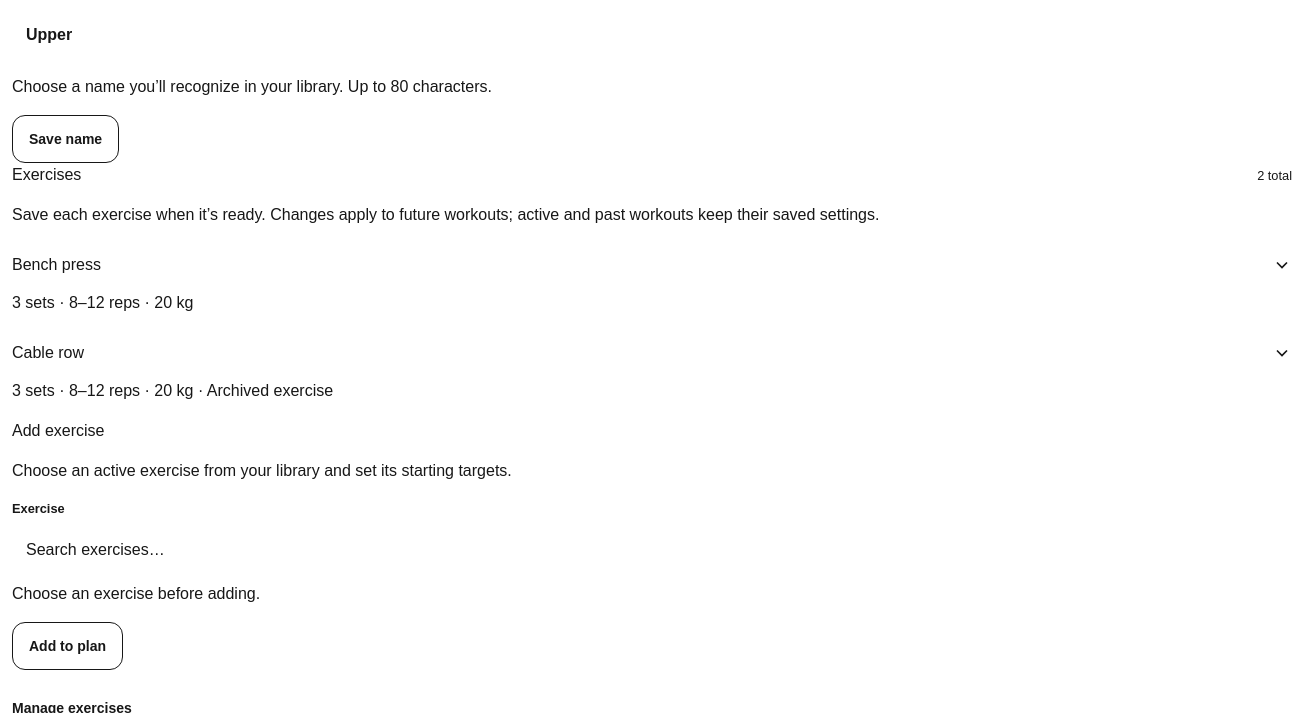
Test: keeps drafts attached to exercise IDs after reorder
This screenshot has width=1304, height=713.
Click the button "Bench press": coordinates (56, 265) [12, 243, 1292, 287]
(page scrolled)
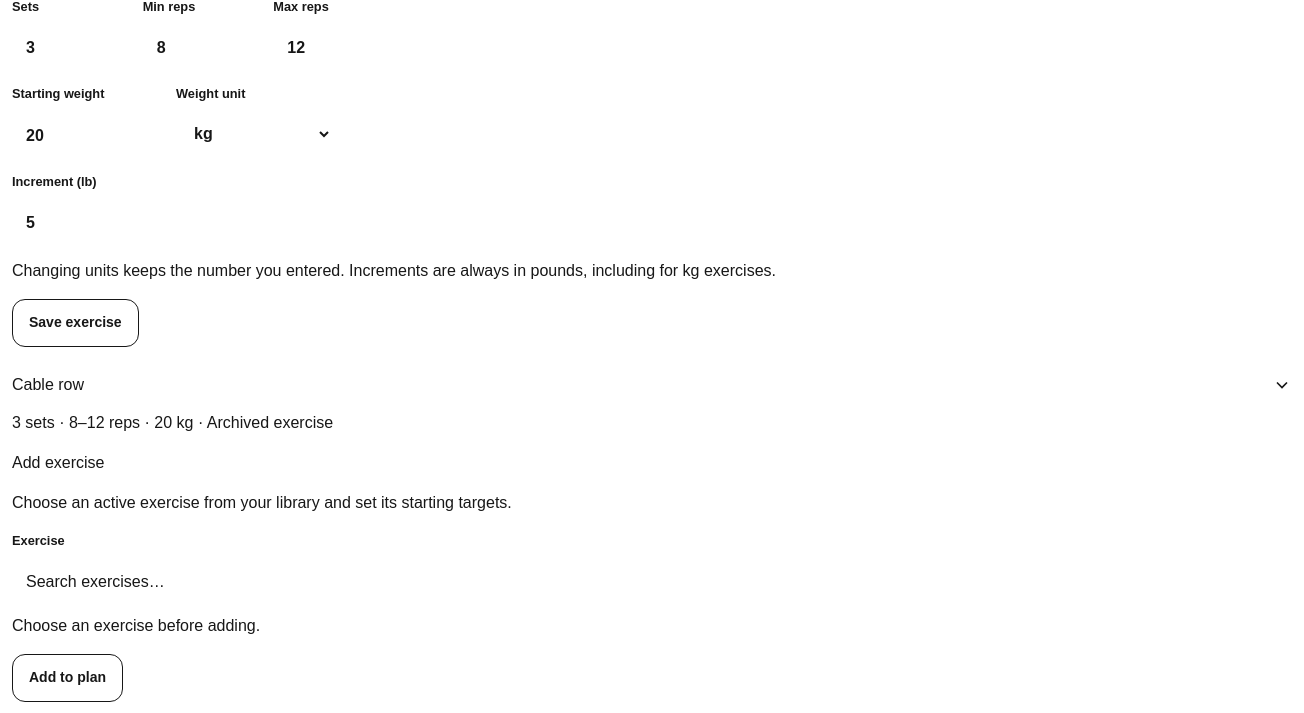
Click the button "Cable row": coordinates (48, 384) [12, 363, 1292, 407]
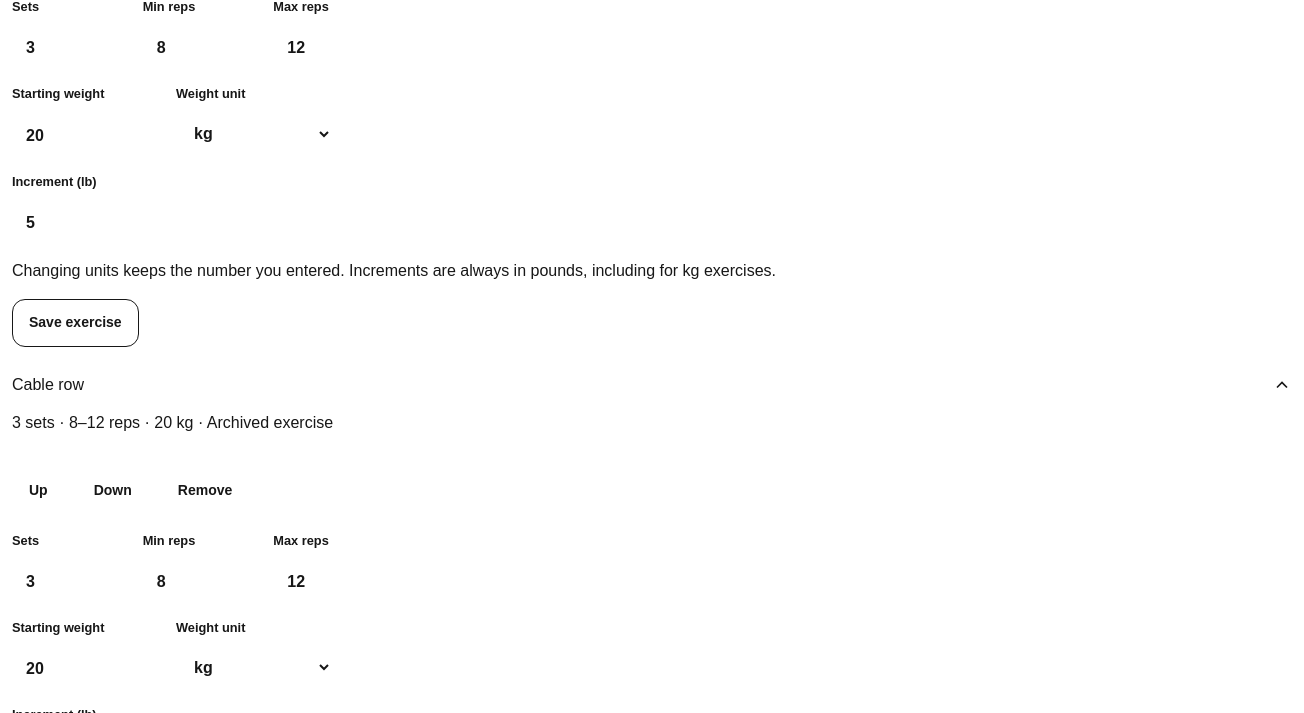
Check: the button named "Move Cable row down" is disabled, box [77, 467, 149, 515]
Replace the text in the 1st number field labelled "Sets" with "7": coordinates (73, 48) [12, 24, 135, 72]
(page scrolled)
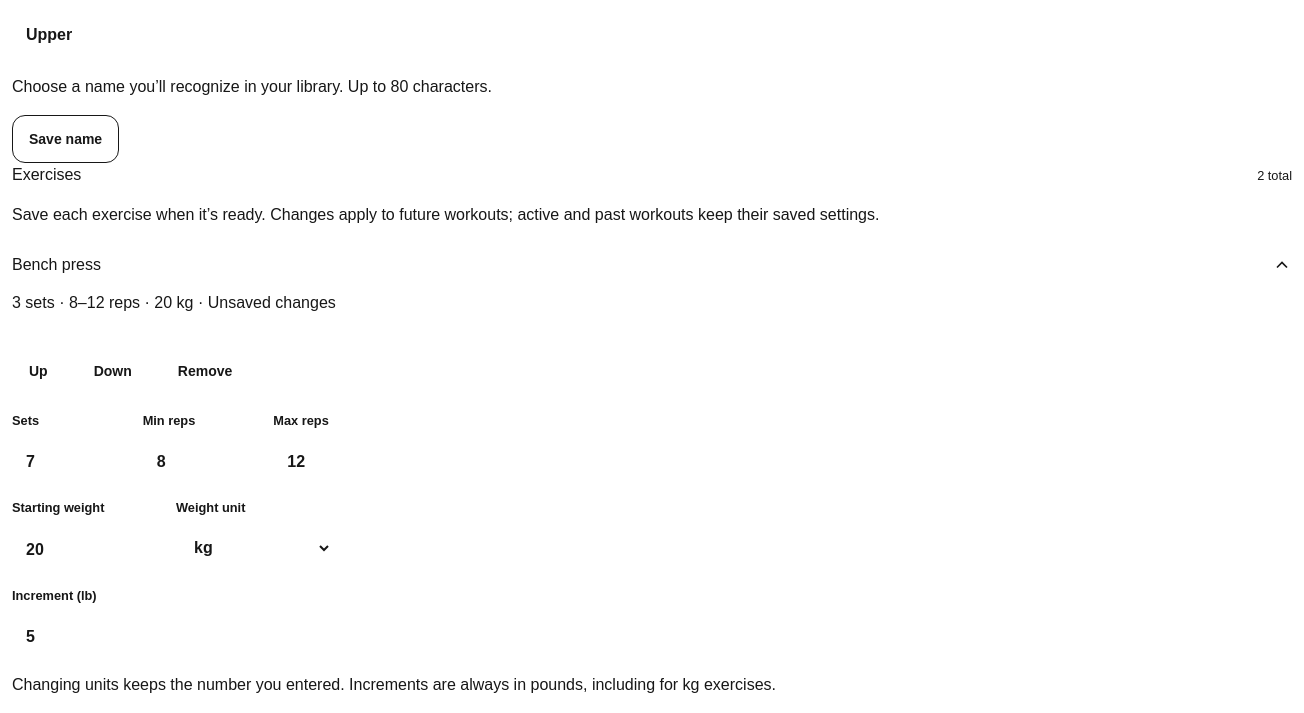
Click the button named "Move Bench press down": coordinates (113, 371) [77, 347, 149, 395]
(page scrolled)
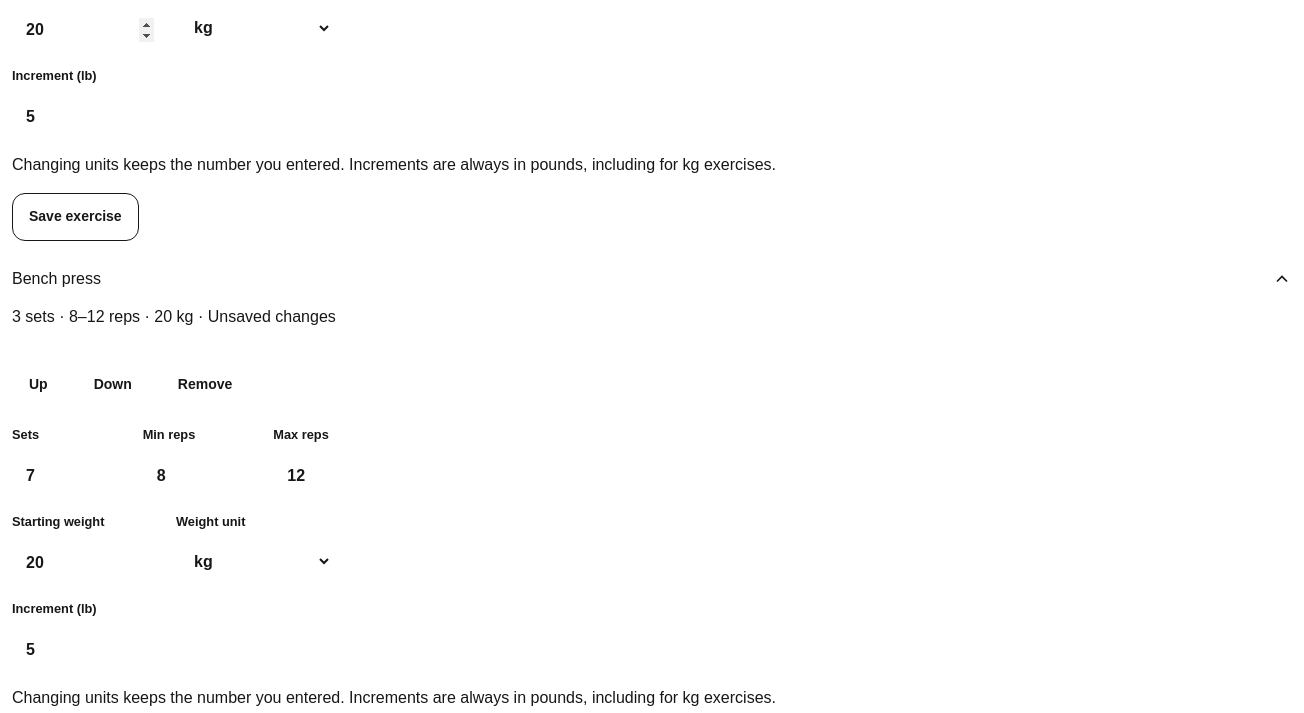
Check: the button named "Move Bench press down" is disabled, box [77, 361, 149, 409]
